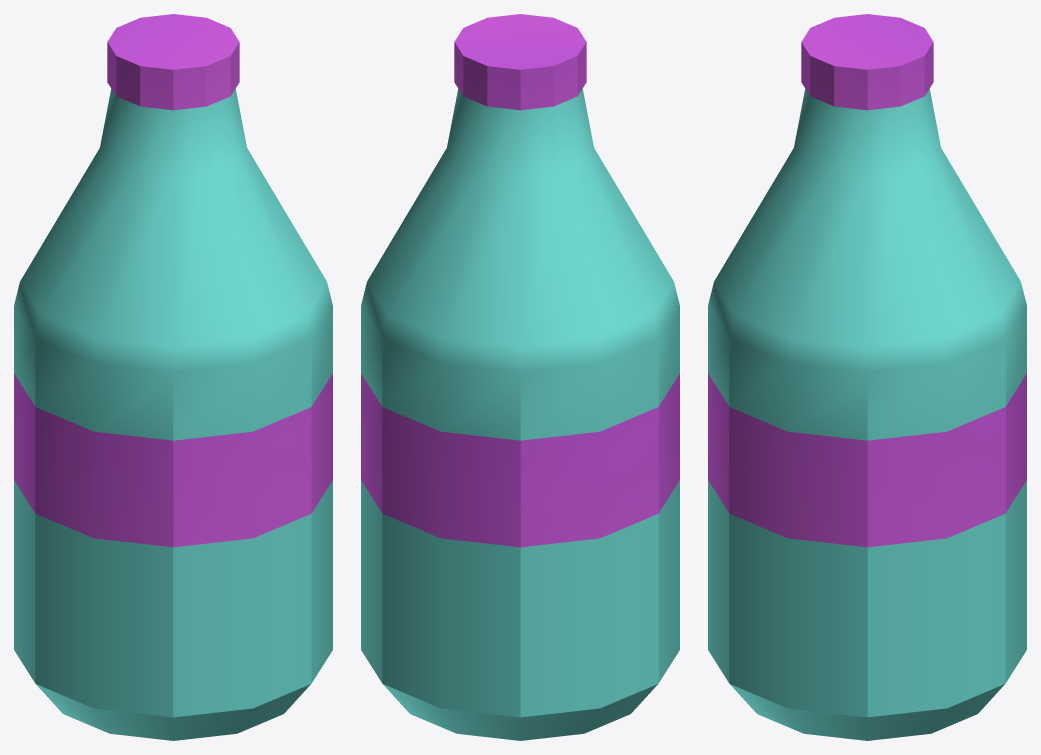
File: Ürün60.fbx
3 renders of one model, left to right at view 1: azimuth 30°, elevation 25°; view 2: azimuth 150°, elevation 25°; view 3: azimuth 270°, elevation 25°, orthographic.
Parts seen in each view (by area): view 1: pCylinder36; view 2: pCylinder36; view 3: pCylinder36.
Part boxes in pixels (left/top/right/bottom): pCylinder36: left=14, top=14, right=332, bottom=740; pCylinder36: left=361, top=14, right=679, bottom=740; pCylinder36: left=708, top=14, right=1026, bottom=740.
Bounding box in the file's own units: 8.52 × 19.04 × 8.52.
